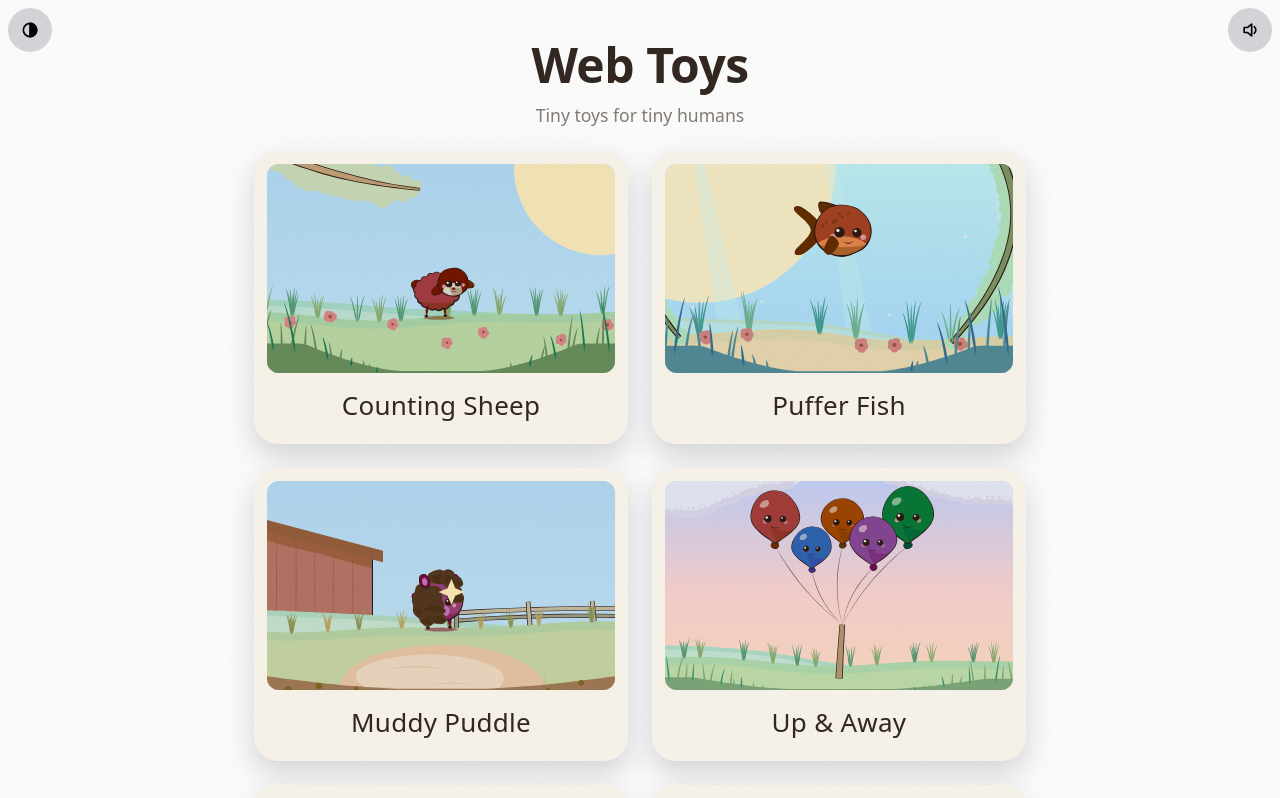
Home theme pill › cycles System → Light → Dark, naming the mode in its aria-label
This screenshot has width=1280, height=798.
Click the button named "Theme: System": x=30, y=30 8,8 -> 52,52
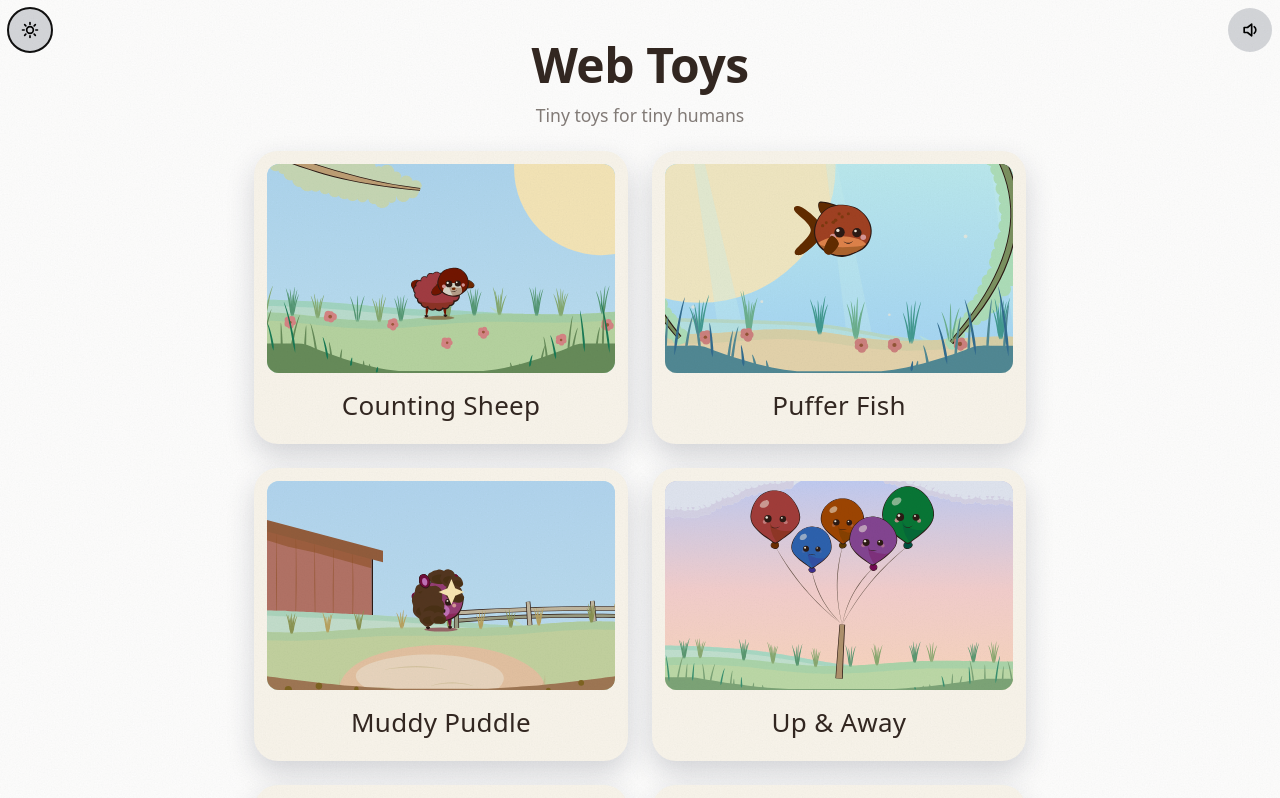
Expected: the button named "Theme: Light" is shown
Click the button named "Theme: Light": x=30, y=30 8,8 -> 52,52
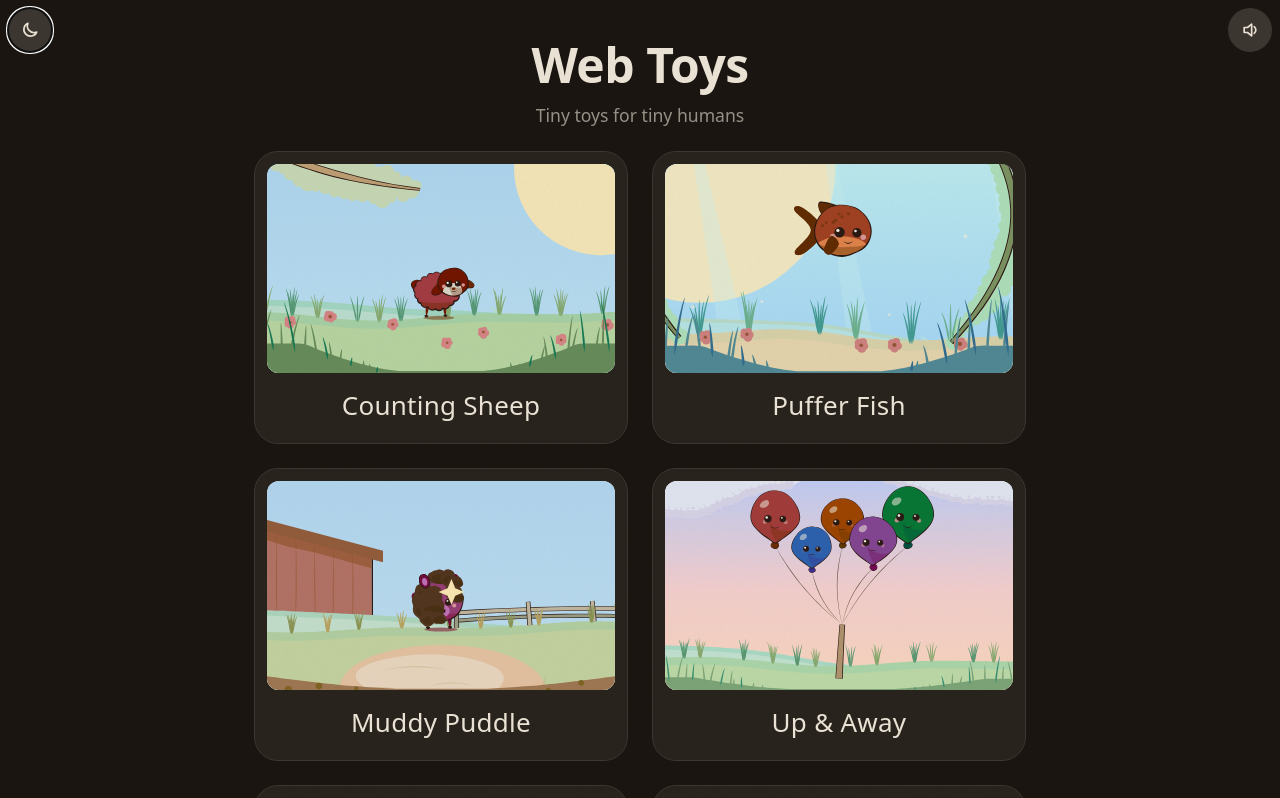
Expected: the button named "Theme: Dark" is shown, 8,8 -> 52,52
